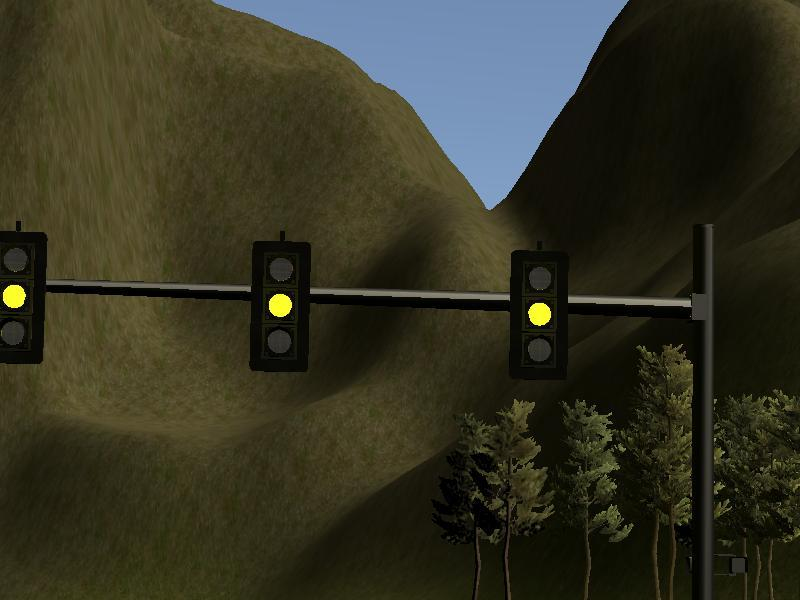Yellow: (510, 251, 567, 379), (253, 242, 309, 371), (1, 235, 43, 362)
